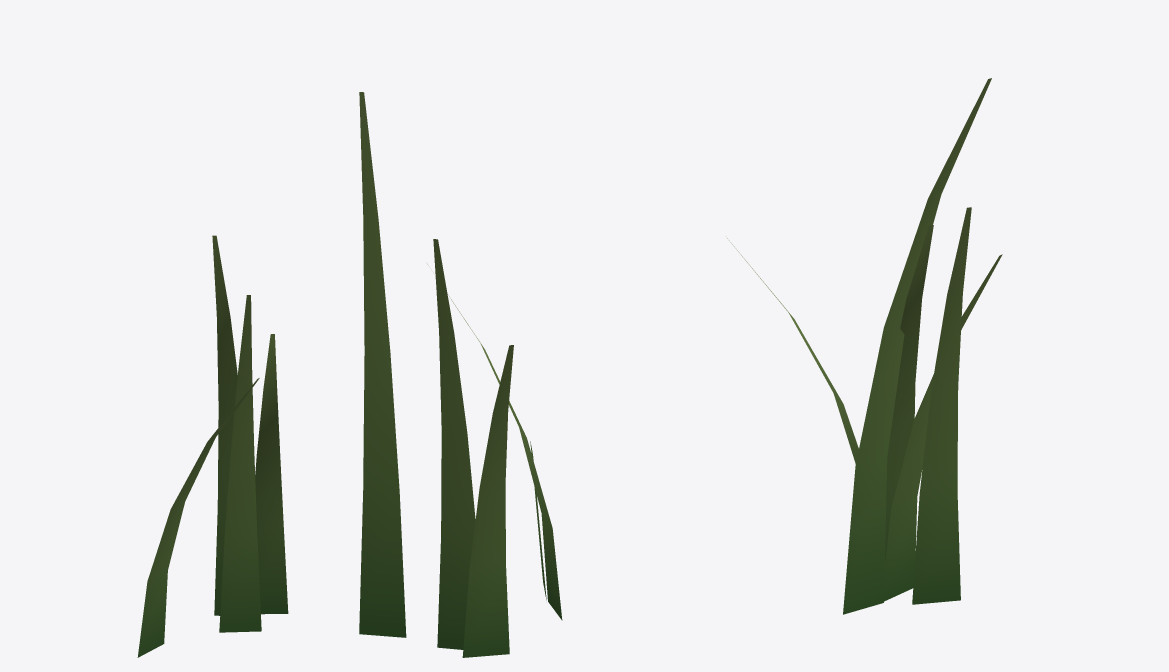
File: grass-tuft.glb
3 views of the same model, side by side, from view 1: azimuth 30°, elevation 25°; view 2: azimuth 150°, elevation 25°; view 3: azimuth 270°, elevation 25° (orthographic). The views are drawn at different scales.
Visible parts, largest first — view 1: GrassTuft; view 2: GrassTuft; view 3: GrassTuft.
Boxes of the visible parts, x1,y1,x2,y2 form: GrassTuft: [137, 235, 288, 657]; GrassTuft: [359, 92, 562, 657]; GrassTuft: [727, 78, 1002, 614].
Size of the model in its own units: 0.2753 by 0.6131 by 0.4111.
